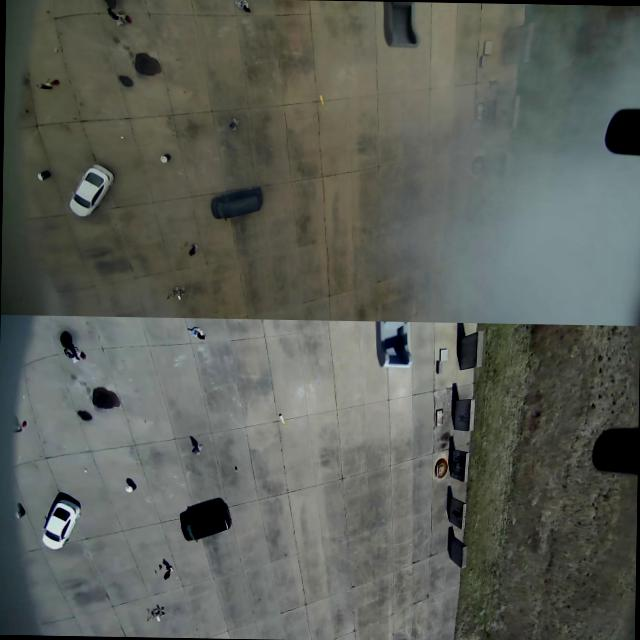car: (170, 503, 238, 545), (40, 493, 81, 550), (69, 164, 111, 218), (210, 182, 264, 220)
